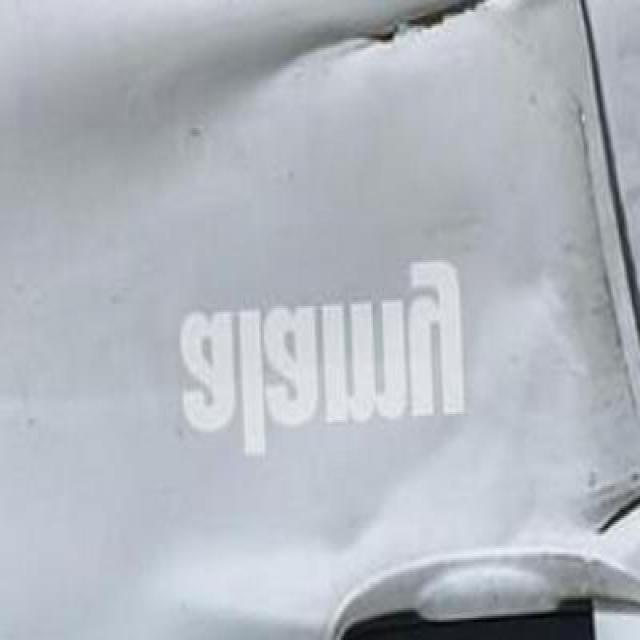dent: (272, 4, 518, 72), (582, 469, 640, 561)
